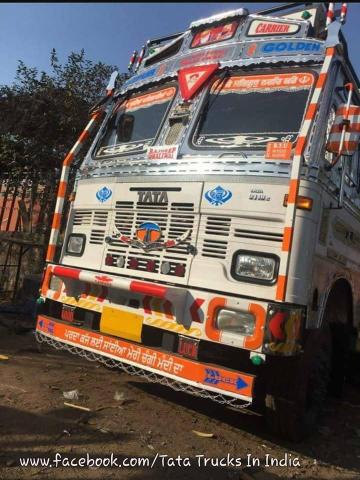truck: (35, 11, 360, 422)
